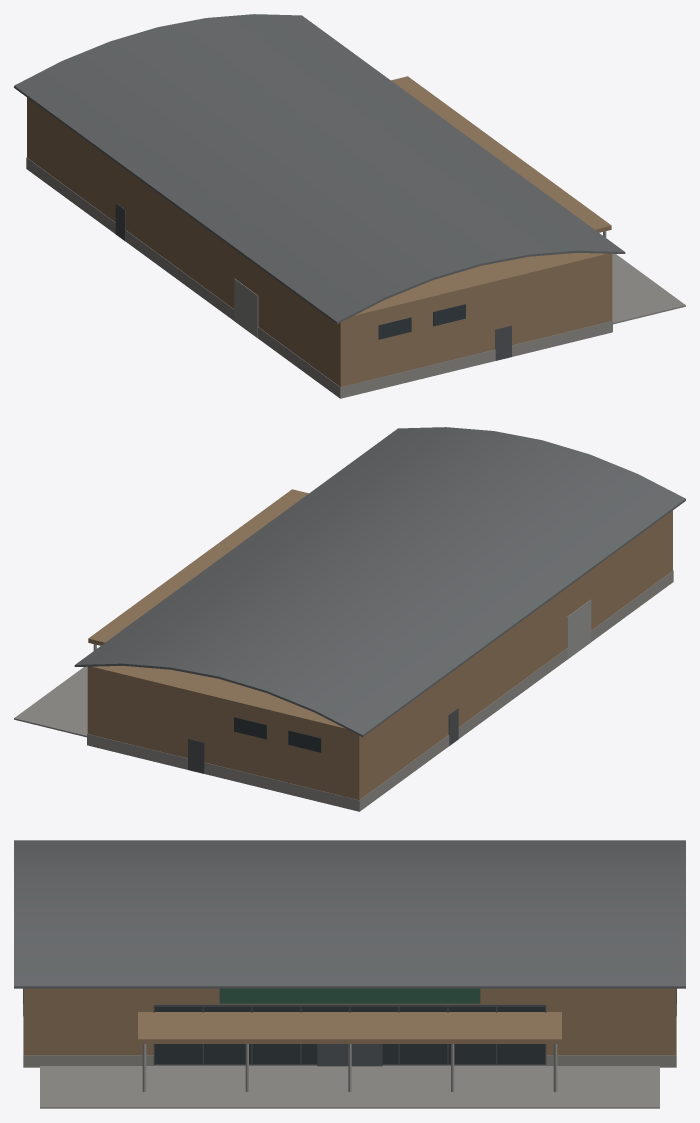
File: SM_Prop_services_hall_1_LOD1.glb
3 renders of one model, top to bottom at view 1: azimuth 30°, elevation 25°; view 2: azimuth 150°, elevation 25°; view 3: azimuth 270°, elevation 25°, orthographic. The views are drawn at different scales.
Visible parts, largest first — view 1: SM_Prop_services_hall_1_LOD1; view 2: SM_Prop_services_hall_1_LOD1; view 3: SM_Prop_services_hall_1_LOD1.
Part boxes in pixels (bbox=[...]): SM_Prop_services_hall_1_LOD1: bbox=[14, 14, 685, 398]; SM_Prop_services_hall_1_LOD1: bbox=[14, 427, 685, 811]; SM_Prop_services_hall_1_LOD1: bbox=[14, 840, 685, 1108].
Bounding box in the file's own units: 26.6 × 7.4 × 41.2.
